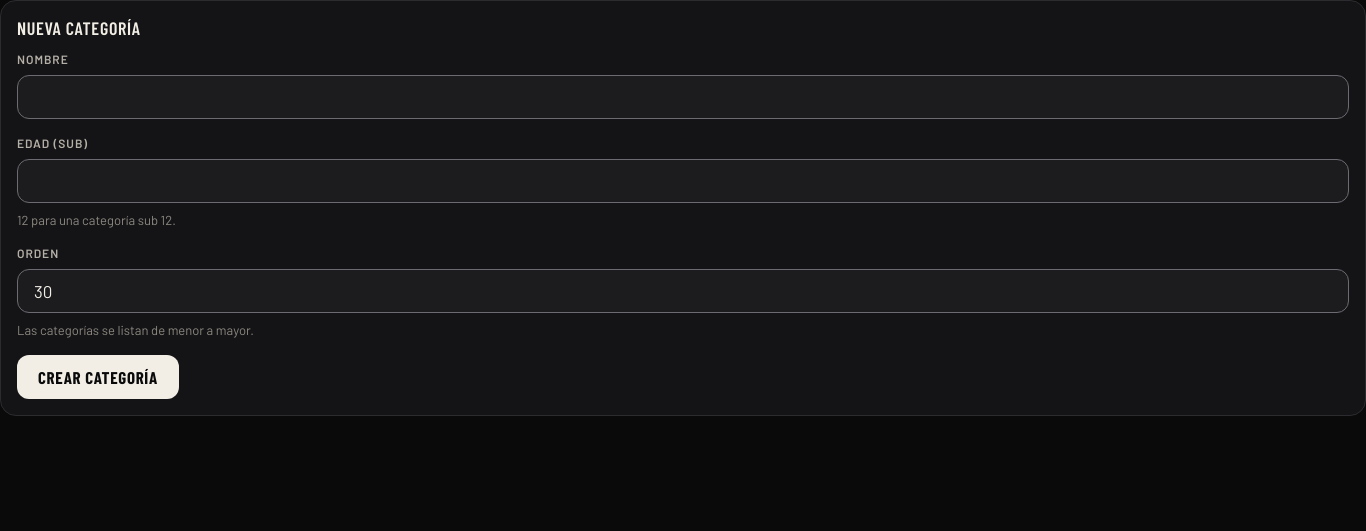
Test: CategoryEditor · una categoría nueva › el orden vacío tampoco viaja como 0
In the field labelled "Nombre": (683, 97) [17, 75, 1349, 119], type "Mayores"
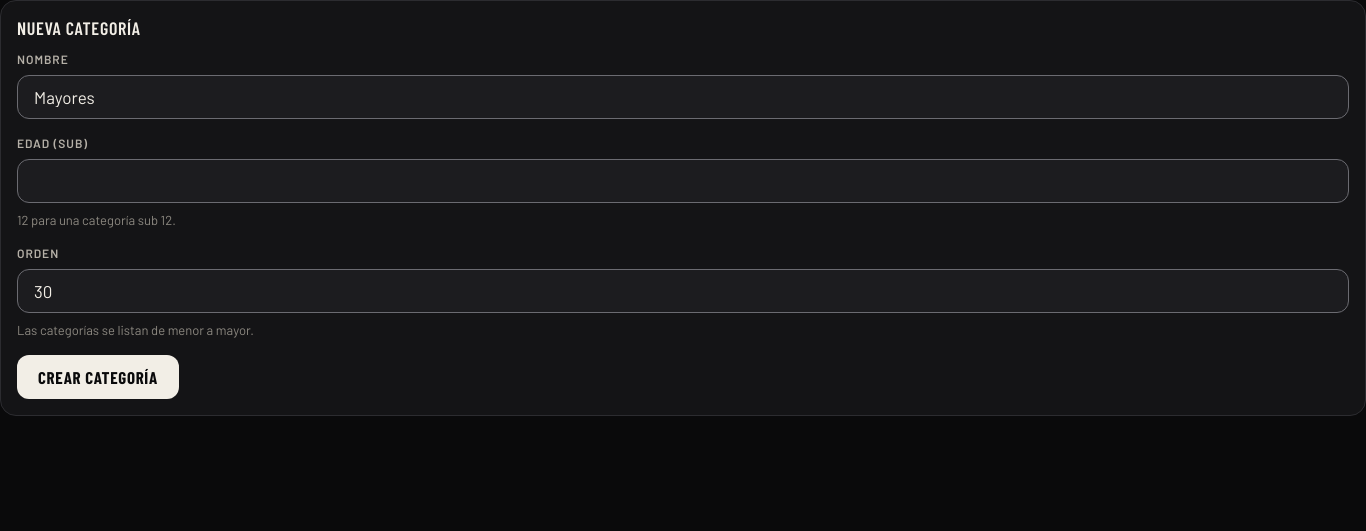
In the number field labelled "Edad (sub)": (683, 181) [17, 159, 1349, 203], type "16"
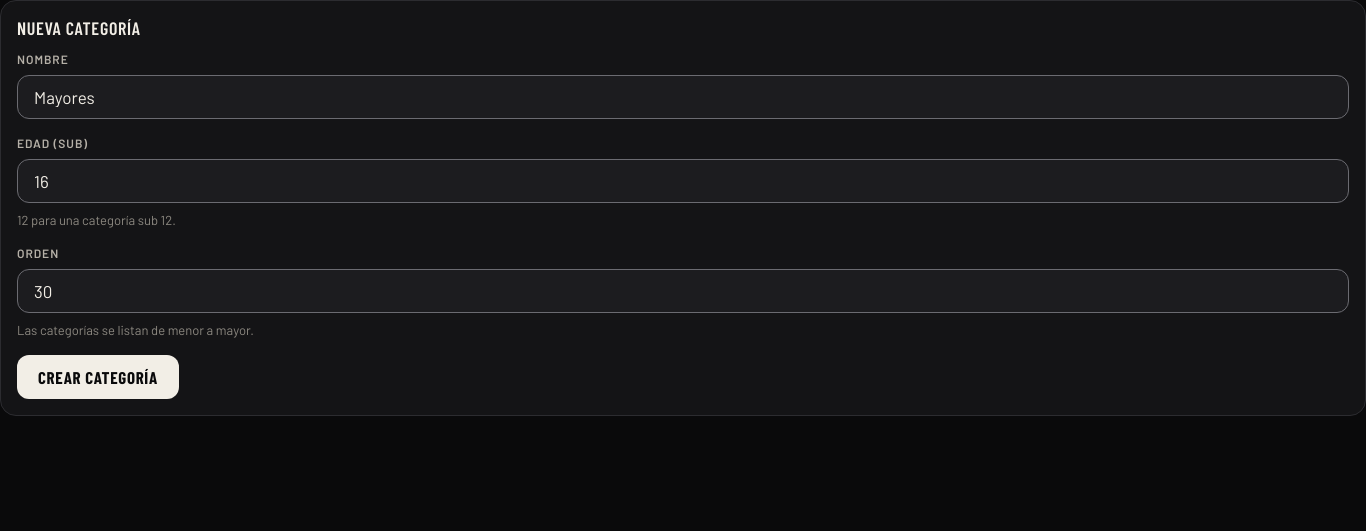
Clear the number field labelled "Orden": (683, 291) [17, 269, 1349, 313]
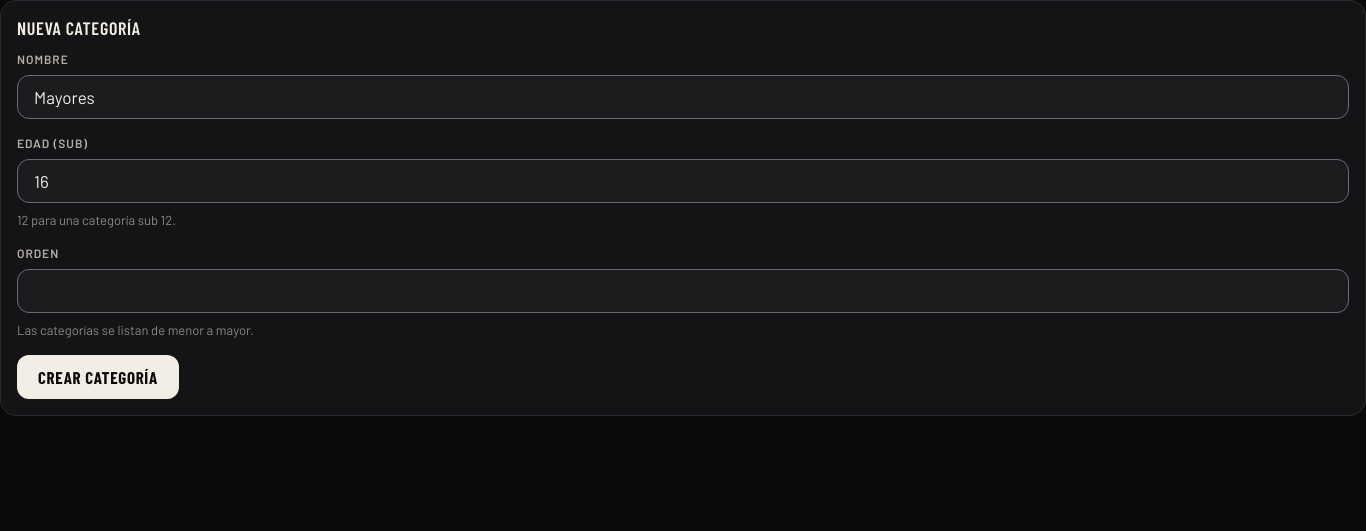
Click the button "Crear categoría": (98, 377) [17, 355, 179, 399]
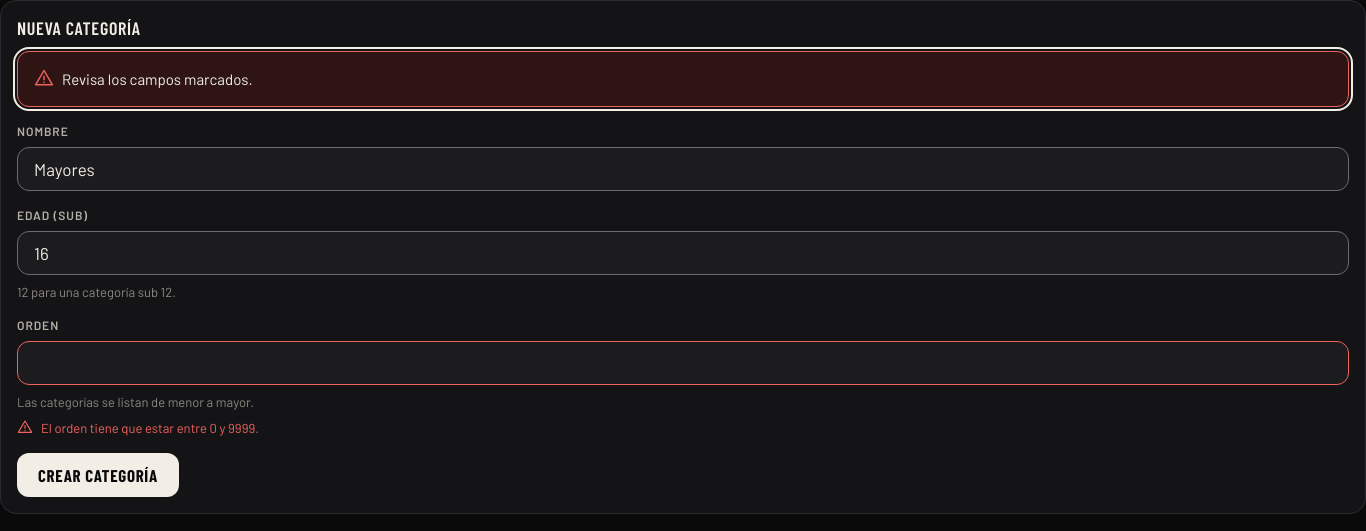
Check: the text "El orden tiene que estar entre 0 y 9999." is shown, box [17, 419, 259, 436]
